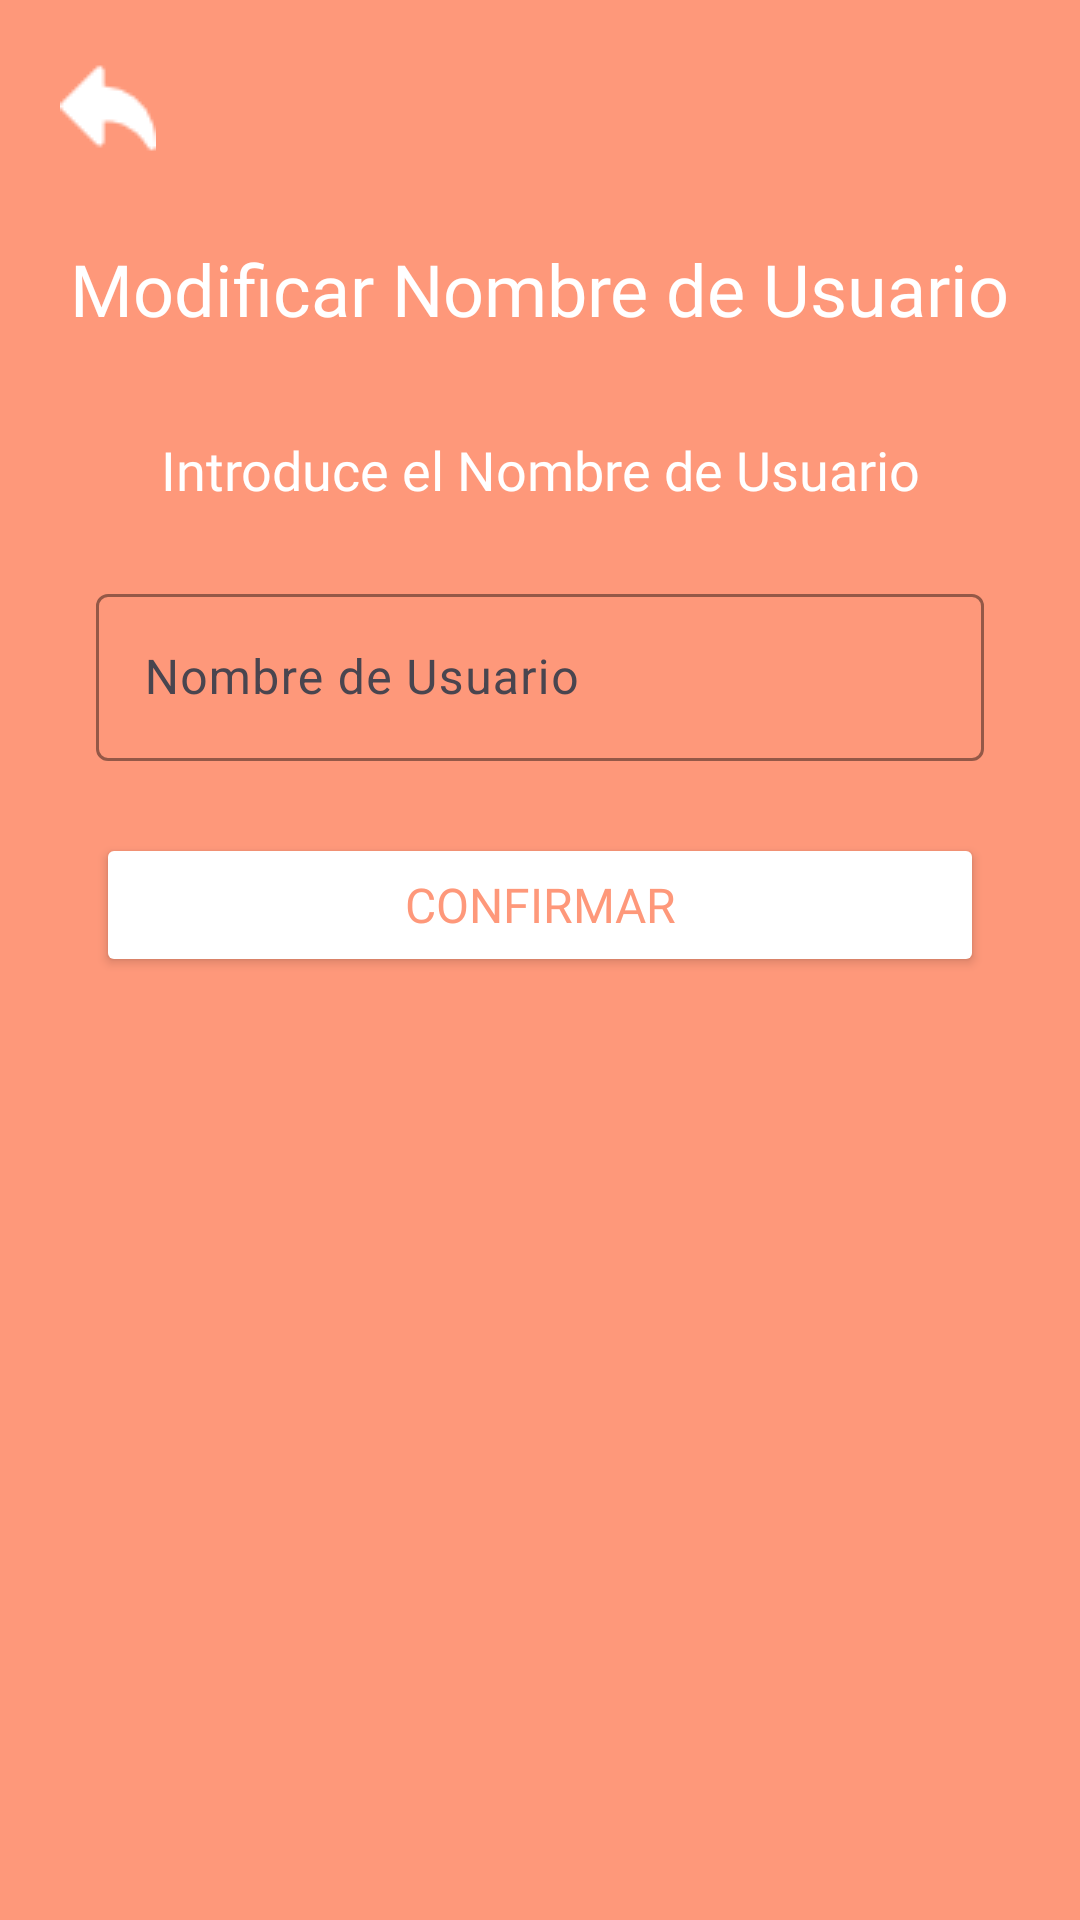

Locate icon controls on the screen. Image size 1080*1920, boxes as region(x1, y1, x2, y2).
atras: region(60, 65, 156, 151)
